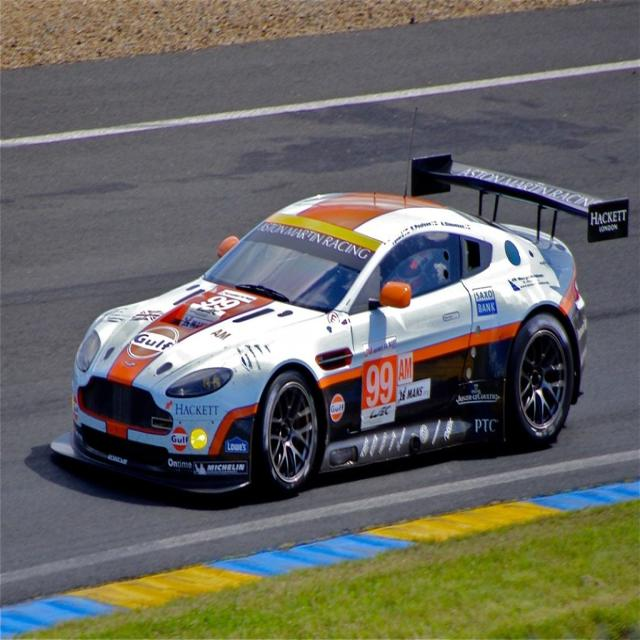car: (71, 103, 631, 501)
